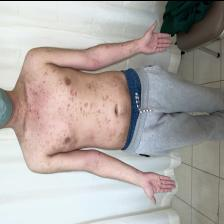DA: (78, 78, 125, 144)
